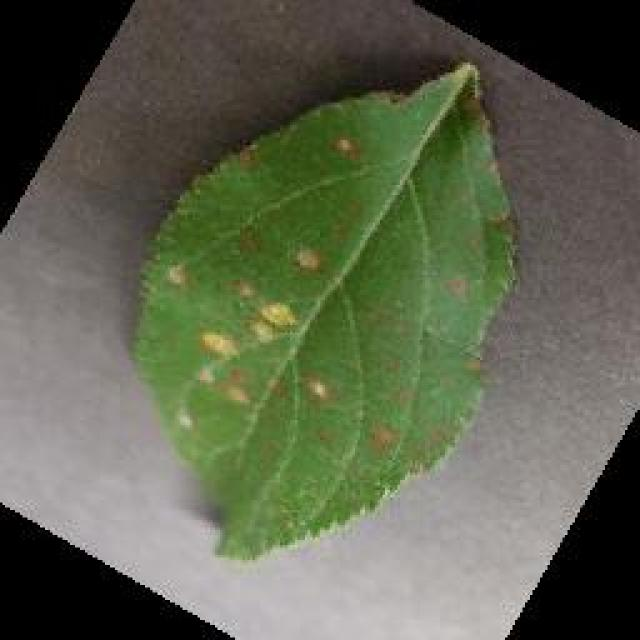apple healthy: (128, 58, 520, 560)
